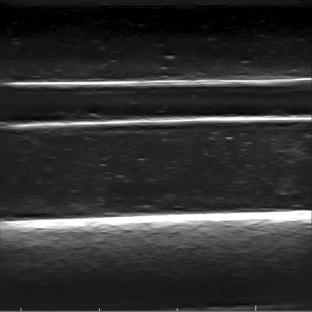vessel: (1, 76, 307, 128)
